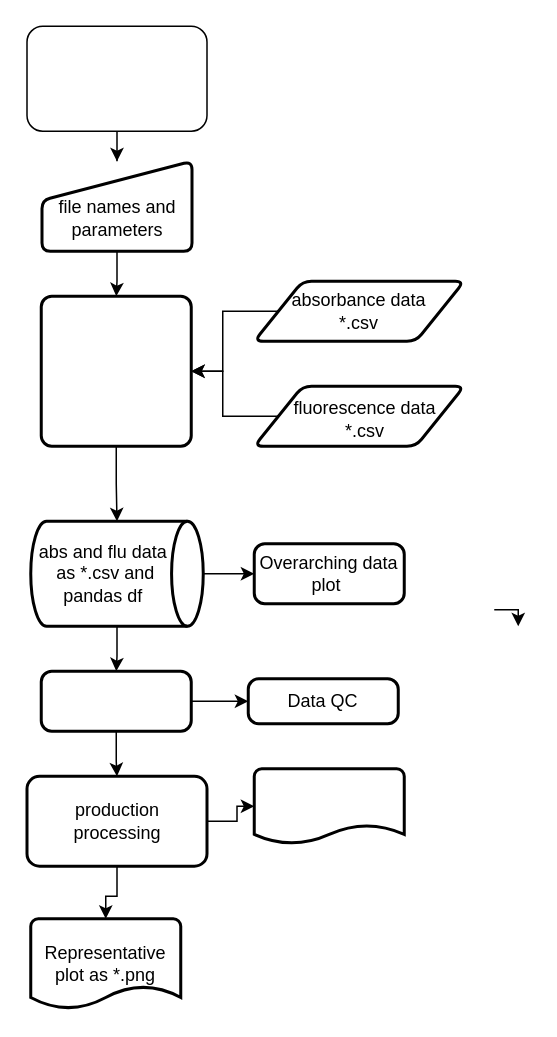
This 557x1037 diagram has some shape labels left out. The centre of each missing label's shape, as x and y in pixels:
Calculation of fluorescence QY from high content spectroscopy data: [116,78]
data table as *.csv: [328,805]
Import and wrangling of spectroscopic data: [115,370]
QY calculation: [115,700]
